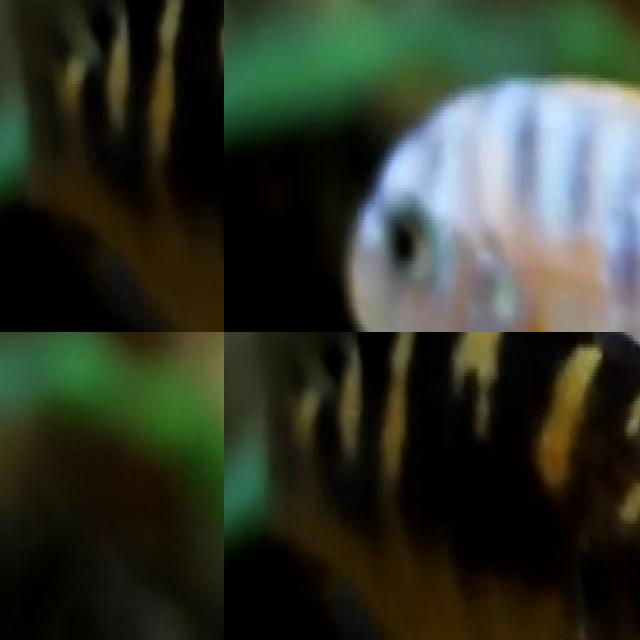fish: (224, 332, 640, 640), (0, 0, 224, 332)
